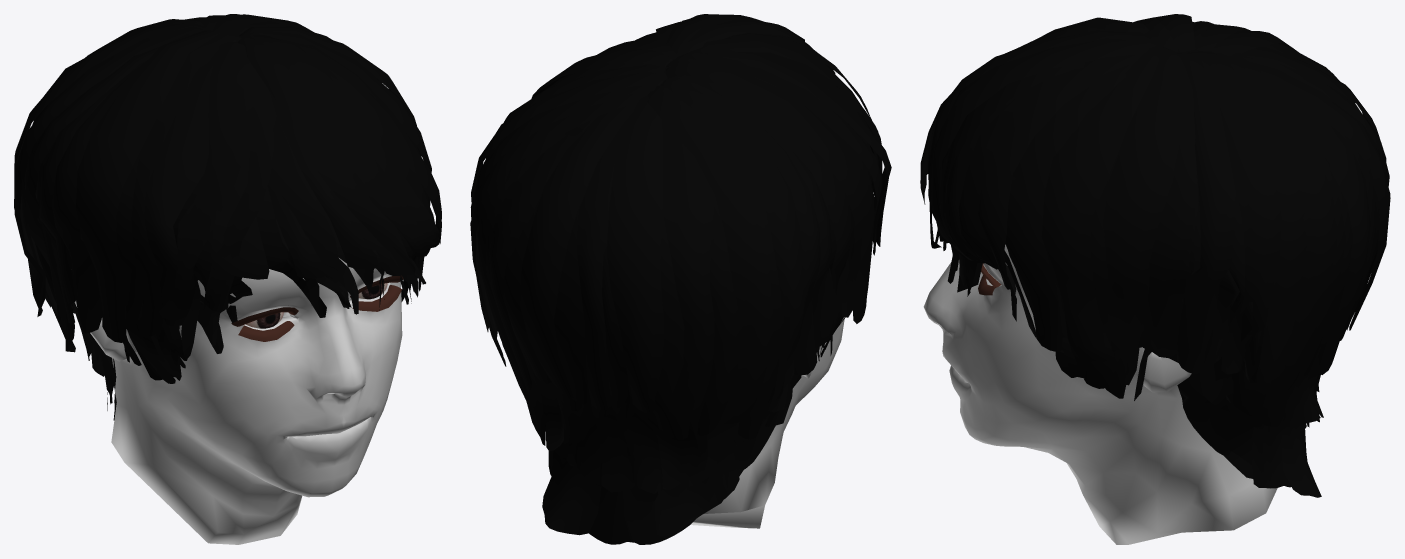
Rendered from M_Suda Head.fbx.
3 renders of one model, left to right at view 1: azimuth 30°, elevation 25°; view 2: azimuth 150°, elevation 25°; view 3: azimuth 270°, elevation 25°, orthographic.
Parts seen in each view (by area): view 1: Hair, CC_Base_Body, CC_Base_Eye; view 2: Hair, CC_Base_Body; view 3: Hair, CC_Base_Body.
Boxes of the visible parts, left/top/right/bottom form: Hair: left=14, top=14, right=441, bottom=420; CC_Base_Body: left=74, top=258, right=403, bottom=544; CC_Base_Eye: left=245, top=283, right=387, bottom=328; Hair: left=470, top=14, right=891, bottom=544; CC_Base_Body: left=690, top=317, right=844, bottom=528; Hair: left=920, top=14, right=1390, bottom=497; CC_Base_Body: left=923, top=244, right=1277, bottom=544.
Size of the model in its own units: 2098 by 2935 by 2502.
